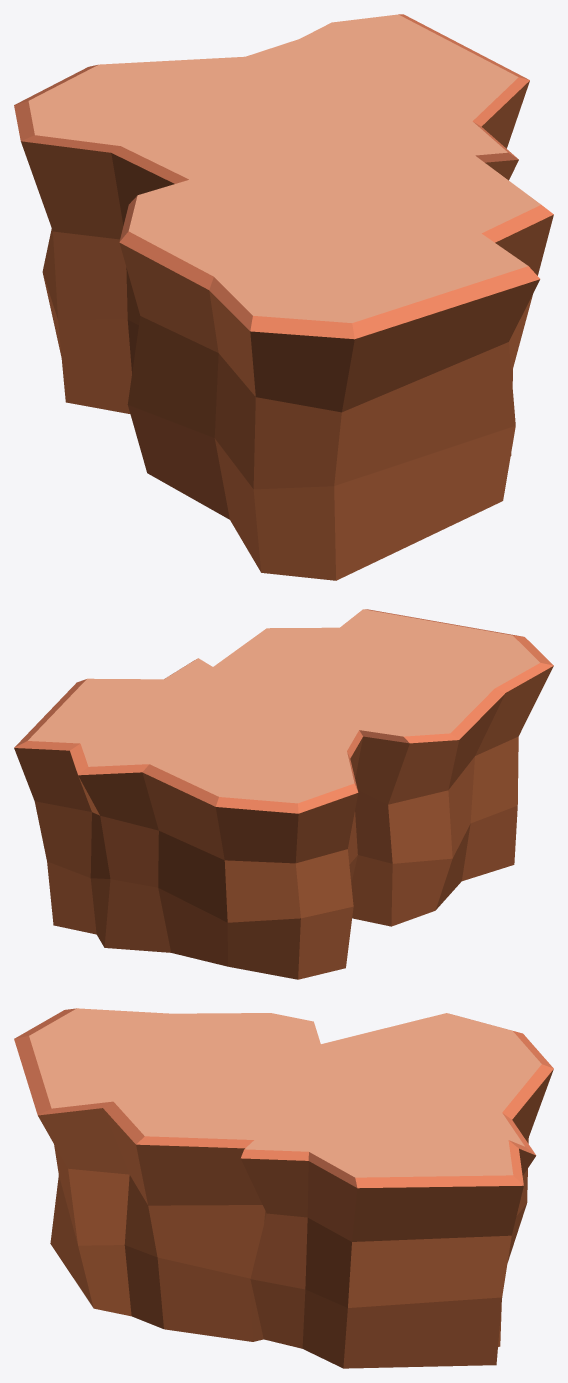
File: Obstacle_1.fbx
The picture shows the model from 3 angles, top to bottom: view 1: azimuth 30°, elevation 25°; view 2: azimuth 150°, elevation 25°; view 3: azimuth 270°, elevation 25°; orthographic projection. The views are drawn at different scales.
Visible parts, largest first — view 1: Cliff 1; view 2: Cliff 1; view 3: Cliff 1.
Part boxes in pixels (x1=…): Cliff 1: x1=14, y1=14, x2=553, y2=580; Cliff 1: x1=14, y1=609, x2=553, y2=979; Cliff 1: x1=14, y1=1008, x2=553, y2=1368.
Size of the model in its own units: 18.49 by 10.66 by 23.64.
1 material, 1 textured.
